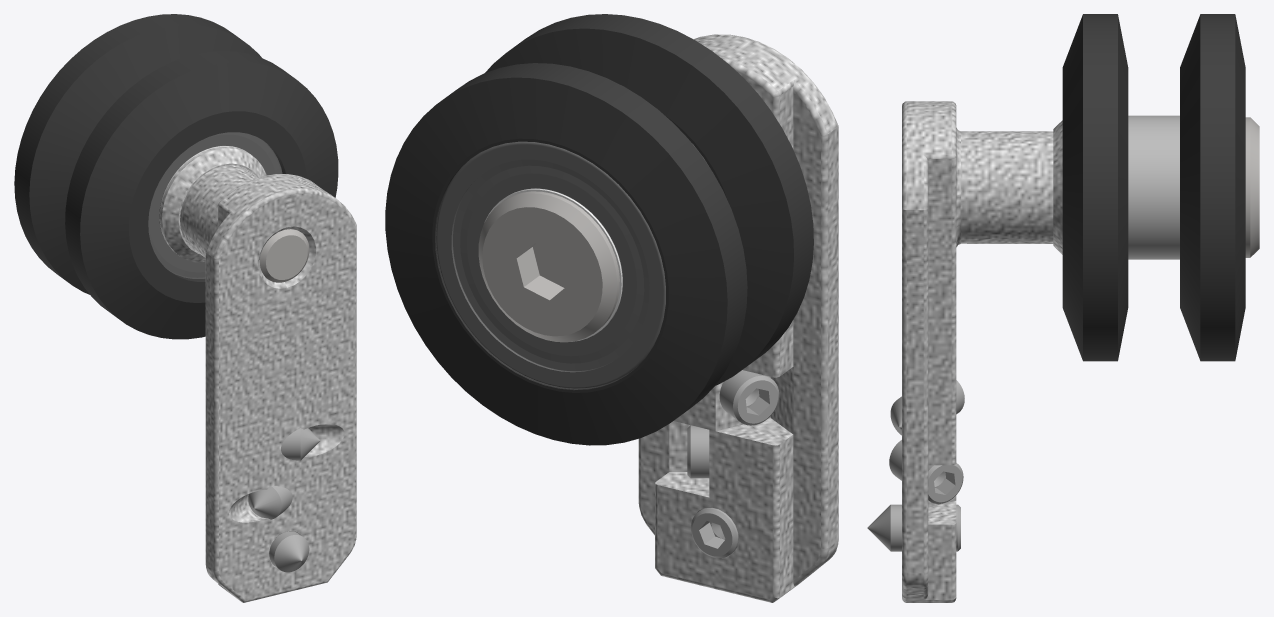
Rendered from Löpenhet.glb.
3 renders of one model, left to right at view 1: azimuth 30°, elevation 25°; view 2: azimuth 150°, elevation 25°; view 3: azimuth 270°, elevation 25°, orthographic. The views are drawn at different scales.
Visible parts, largest first — view 1: Solid1 (×8); view 2: Solid1 (×9); view 3: Solid1 (×8).
Boxes of the visible parts, x1,y1,x2,y2 form: Solid1 (×8): (14, 14, 356, 602); Solid1 (×9): (385, 14, 838, 602); Solid1 (×8): (867, 14, 1259, 602).
Size of the model in its own units: 0.037 by 0.0645 by 0.0418.
9 materials, 1 textured.
